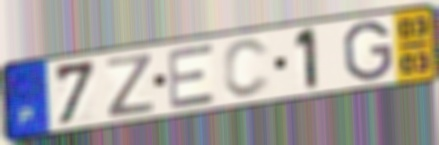1: (292, 25, 320, 93)
7: (53, 58, 98, 128)
C: (221, 37, 273, 100)
E: (165, 42, 219, 112)
G: (341, 19, 396, 84)
Z: (105, 51, 156, 120)
